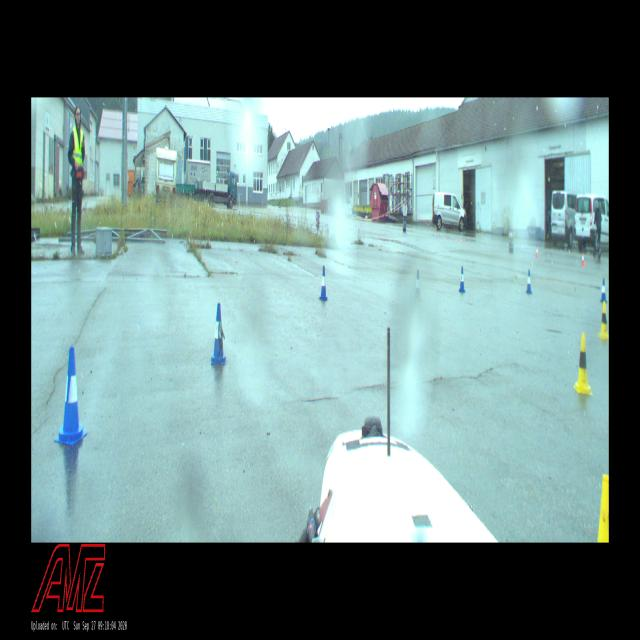blue_cone: (54, 346, 87, 446), (211, 303, 226, 366), (318, 266, 328, 302), (414, 268, 423, 307), (458, 266, 466, 293), (600, 278, 607, 303), (525, 269, 532, 294)
orange_cone: (581, 252, 585, 266), (535, 245, 539, 257)
yellow_cone: (574, 334, 592, 395), (596, 475, 608, 542), (598, 302, 609, 339)
